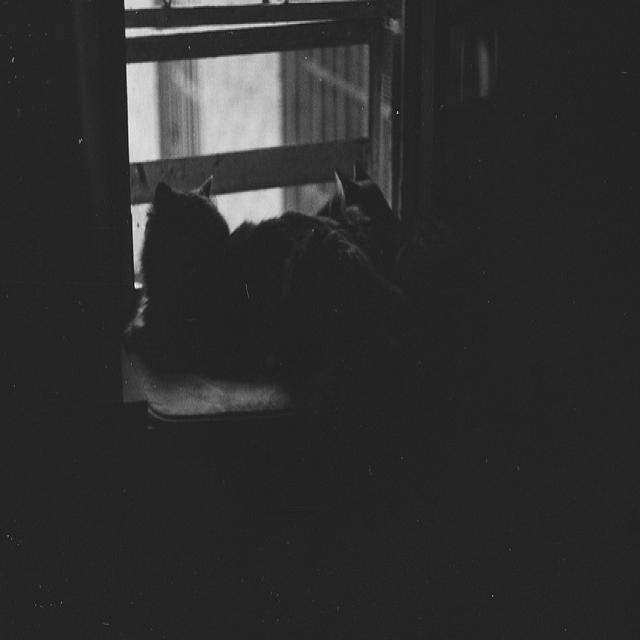Cat: (142, 154, 451, 396), (262, 112, 458, 343)
